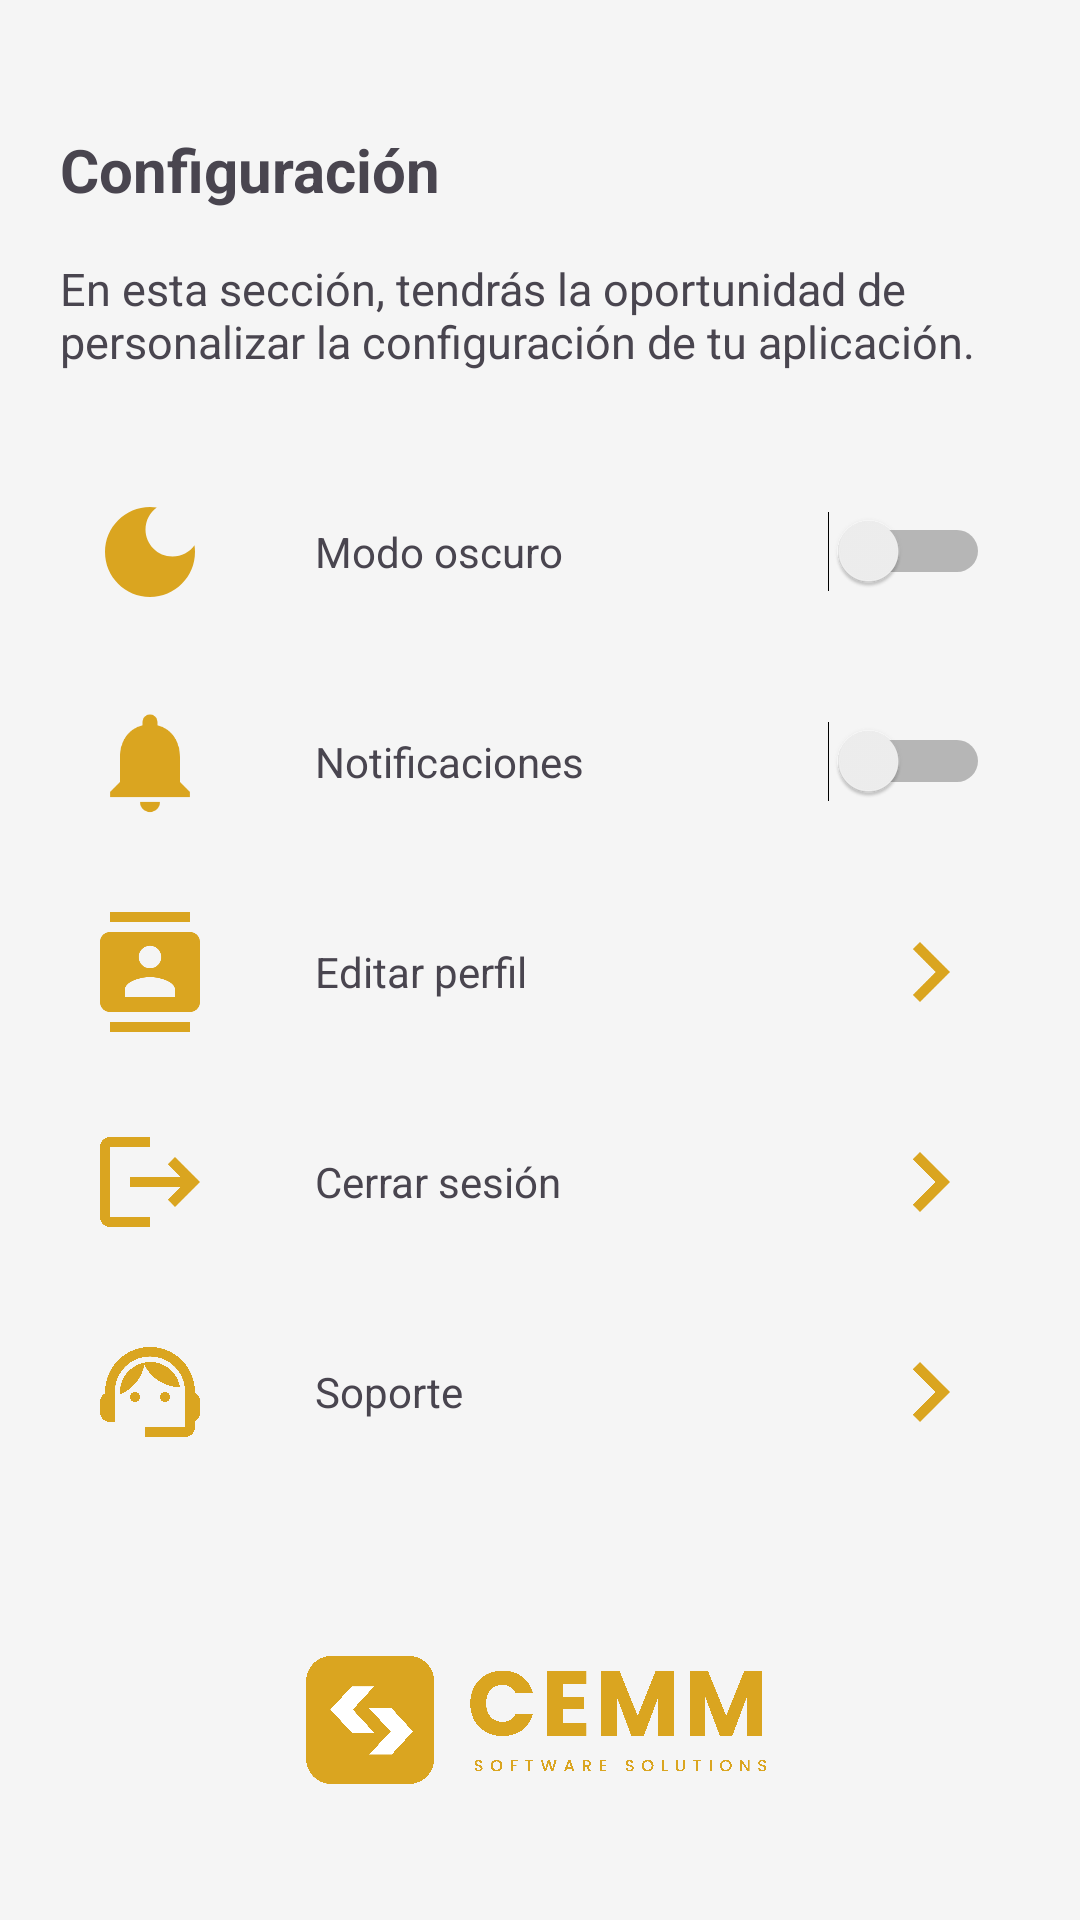

Where to tap for icons on this 1080 x 1920 app screen, as point (x, y):
arrow right: point (931, 972), point (931, 1182), point (931, 1392)
edit profile: point (150, 972)
mode: point (150, 552)
notifications: point (150, 763)
support agent: point (150, 1392)
